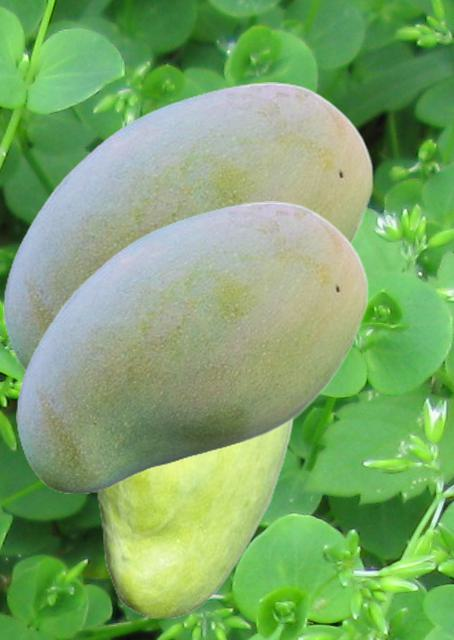green_mango: (3, 82, 373, 373), (16, 201, 368, 492), (94, 421, 295, 618)
